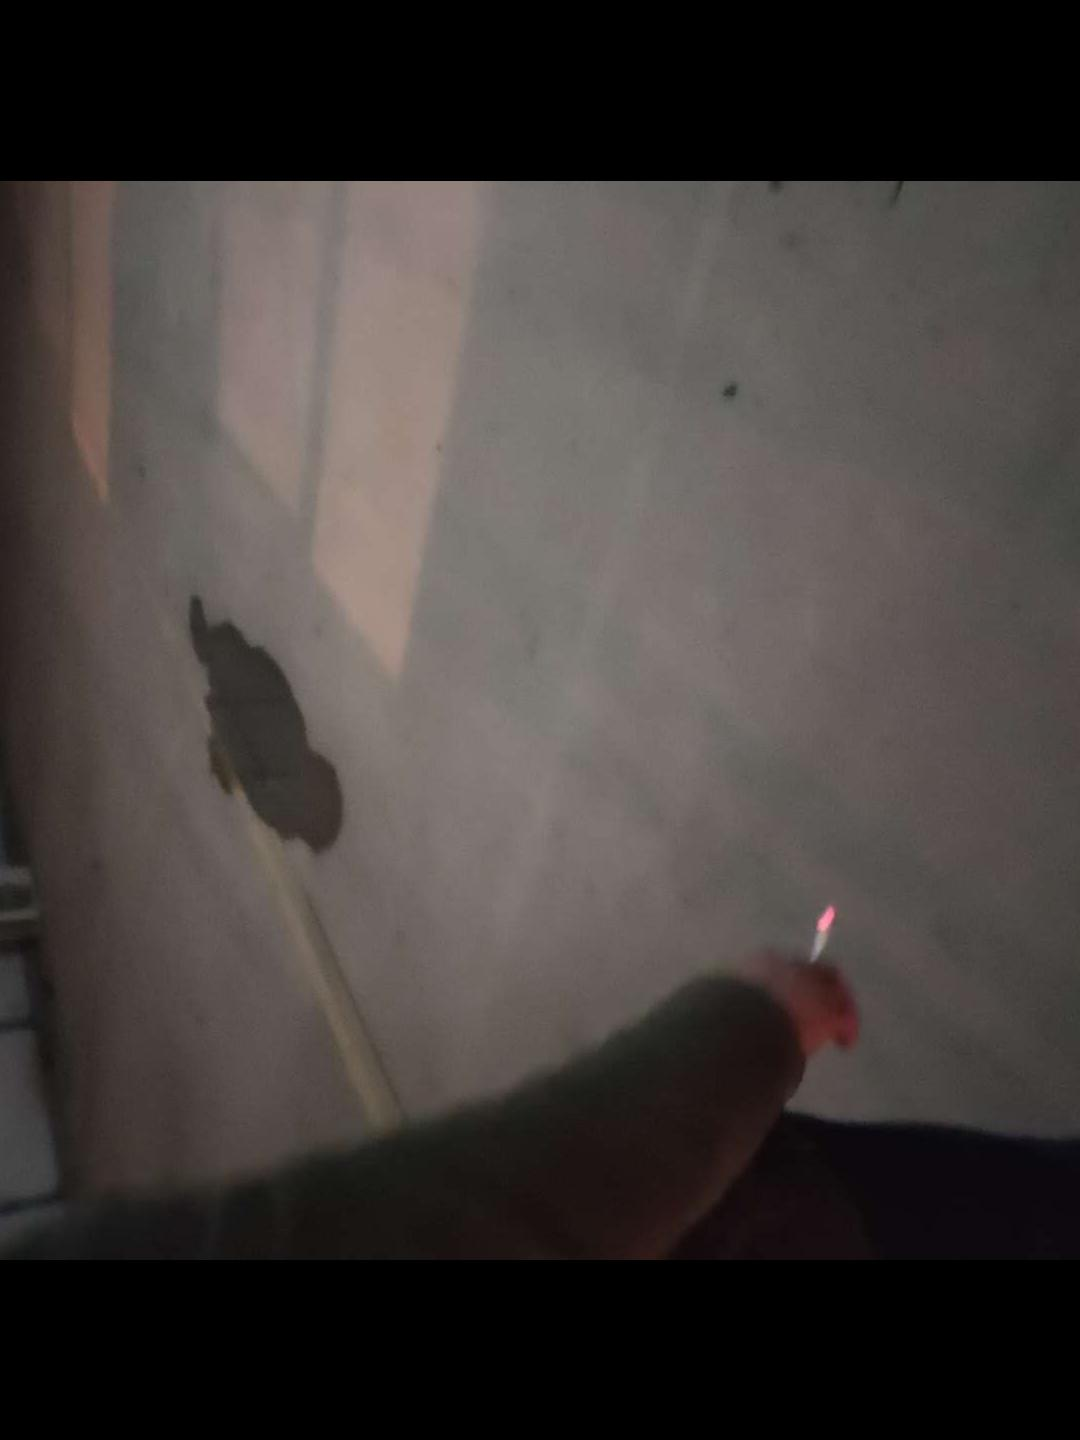Cigarette: (806, 907, 834, 964)
